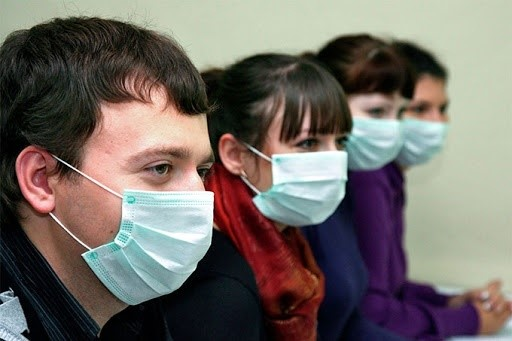face_with_mask: (1, 20, 220, 311), (219, 51, 351, 231), (317, 32, 405, 173), (396, 37, 452, 167)
